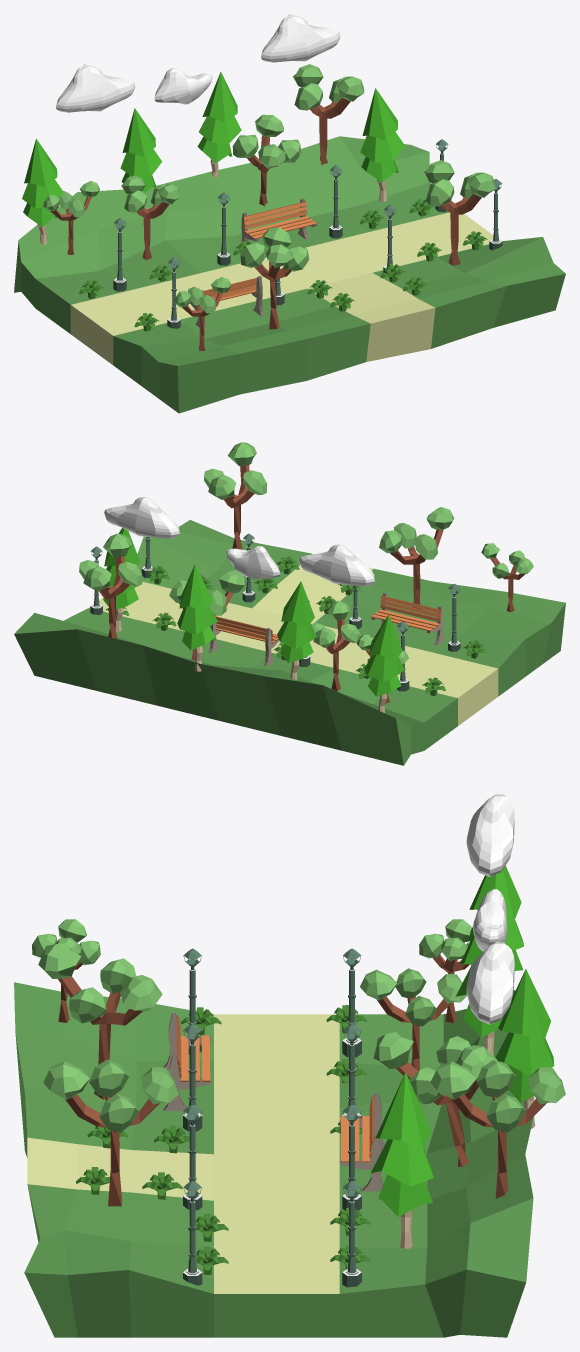
File: park1.glb
3 renders of one model, top to bottom at view 1: azimuth 30°, elevation 25°; view 2: azimuth 150°, elevation 25°; view 3: azimuth 270°, elevation 25°, orthographic. The views are drawn at different scales.
Visible parts, largest first — view 1: ground, tree.000, cone tree.004, tree.001, tree.006, Sphere, Sphere.002, cone tree, tree.003, cone tree.001, cone tree.003, tree.005 (+7 smaller); view 2: ground, tree.006, tree.000, tree.001, cone tree, cone tree.003, cone tree.001, Sphere.002, Sphere, bunch.001, tree.005, cloude (+5 smaller); view 3: ground, tree.000, cone tree.004, tree.001, tree.006, cone tree, tree.003, tree.005, Sphere.002, Sphere, bunch.001, bunch (+13 smaller).
Part boxes in pixels (x1,y1,x2,y2): ground: (14,136,565,413); tree.000: (424,160,495,265); cone tree.004: (360,88,404,201); tree.001: (293,64,364,164); tree.006: (240,227,309,329); Sphere: (261,14,340,62); Sphere.002: (56,64,135,112); cone tree: (197,72,241,177); tree.003: (232,114,301,206); cone tree.001: (22,138,63,245); cone tree.003: (120,108,162,208); tree.005: (121,175,180,259); ground: (14,520,565,765); tree.006: (379,507,454,609); tree.000: (204,442,267,549); tree.001: (79,533,142,638); cone tree: (177,564,217,671); cone tree.003: (277,581,316,679); cone tree.001: (364,614,404,713); Sphere.002: (299,544,375,586); Sphere: (104,497,179,538); bunch.001: (371,592,444,645); tree.005: (311,600,359,691); cloude: (226,546,280,579); ground: (14,982,533,1337); tree.000: (43,1059,178,1206); cone tree.004: (371,1072,433,1248); tree.001: (430,1060,565,1198); tree.006: (38,943,162,1099); cone tree: (495,969,554,1128); tree.003: (373,1032,497,1167); tree.005: (360,968,467,1070); Sphere.002: (466,794,514,876); Sphere: (466,942,514,1024); bunch.001: (163,1013,211,1110); bunch: (339,1093,384,1191).
Bounding box in the file's own units: 28.71 × 14.48 × 22.75.
7 materials, 7 textured.
